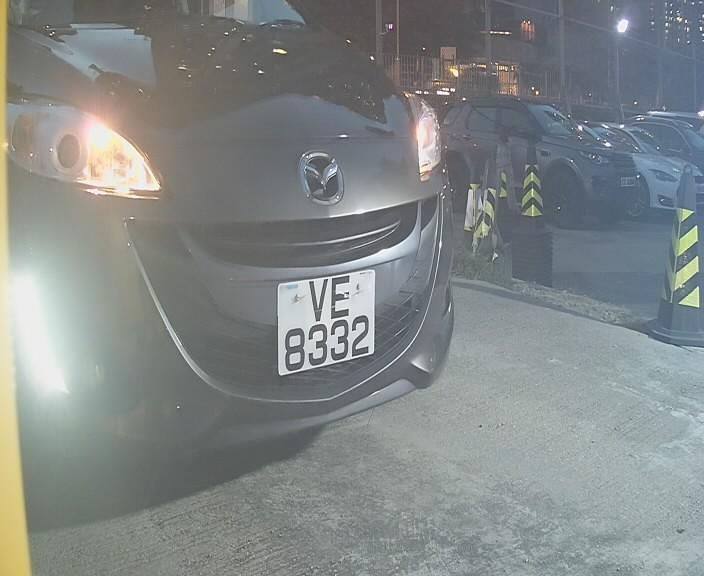privatecar: (1, 1, 481, 476)
